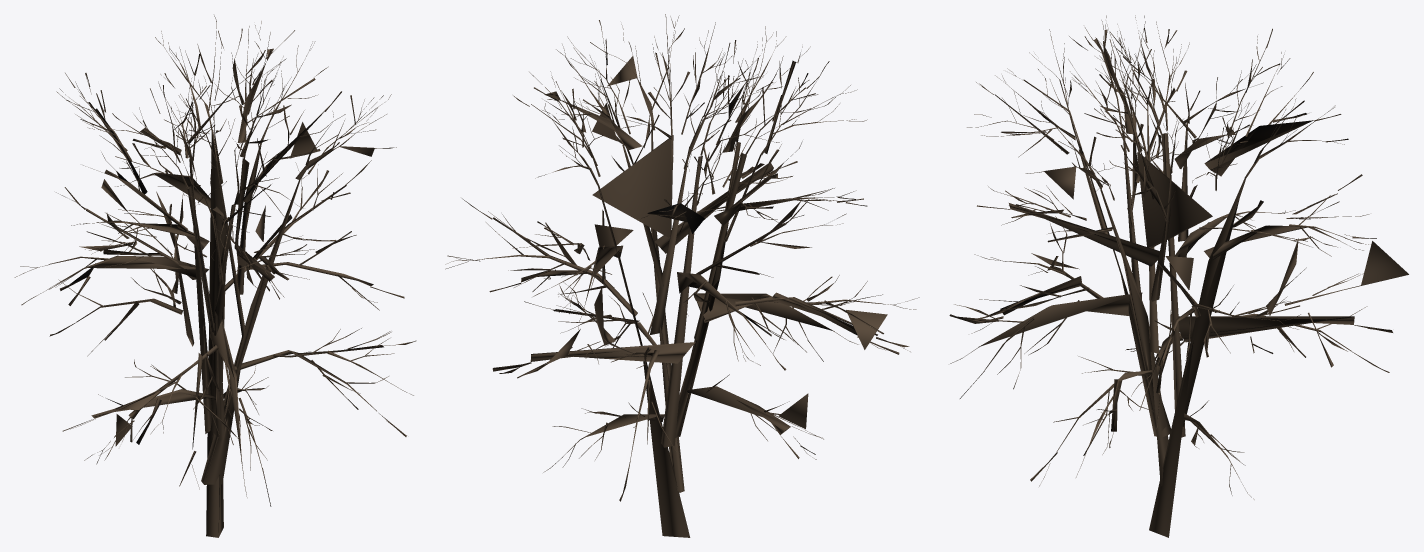
The model's file is deadtree.glb.
3 renders of one model, left to right at view 1: azimuth 30°, elevation 25°; view 2: azimuth 150°, elevation 25°; view 3: azimuth 270°, elevation 25°, orthographic. The views are drawn at different scales.
Visible parts, largest first — view 1: deadtree_wood; view 2: deadtree_wood; view 3: deadtree_wood.
Boxes of the visible parts, x1,y1,x2,y2 form: deadtree_wood: [14, 15, 416, 537]; deadtree_wood: [445, 14, 919, 537]; deadtree_wood: [949, 15, 1408, 537].
Size of the model in its own units: 6.62 by 8.75 by 7.37.
